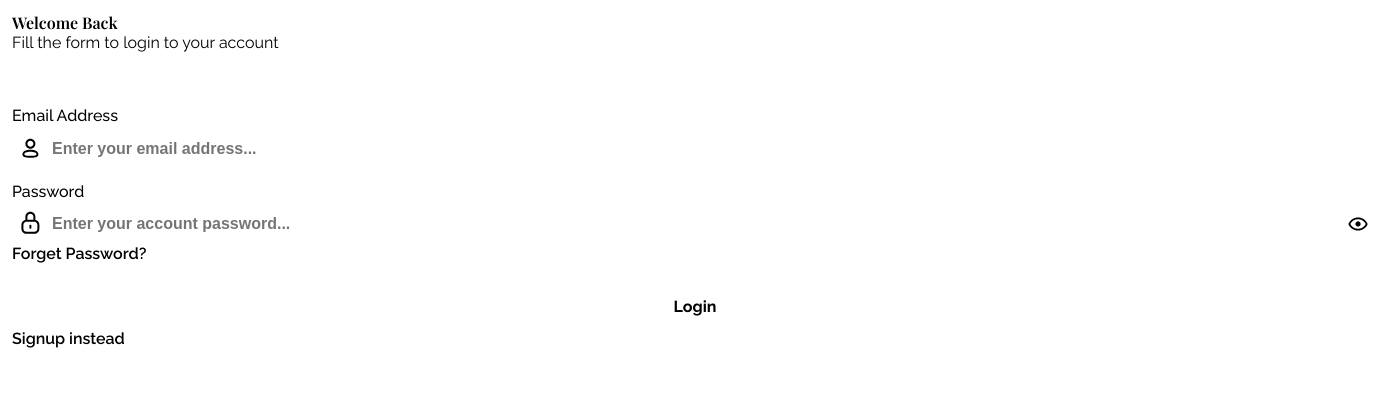
Test case: Test Component : Loginform › if inputs are empty if click on the login show error
The width and height of the screenshot is (1390, 411).
Click the button with test id "loginformLoginButton".
click(695, 306)  # box [12,290,1378,322]
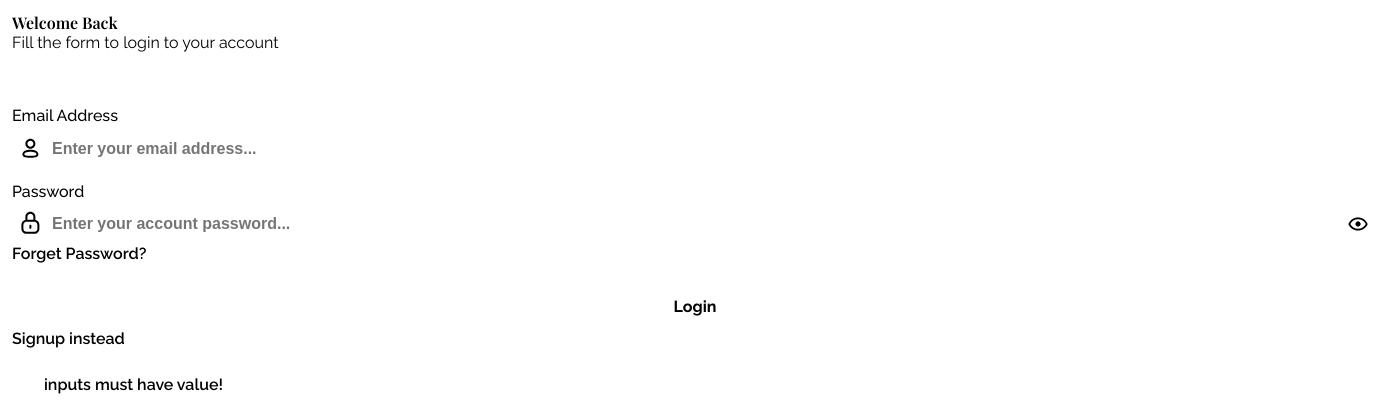
Now the element with test id "errorMessage" reads "inputs must have value!", box [44,375,223,394]
